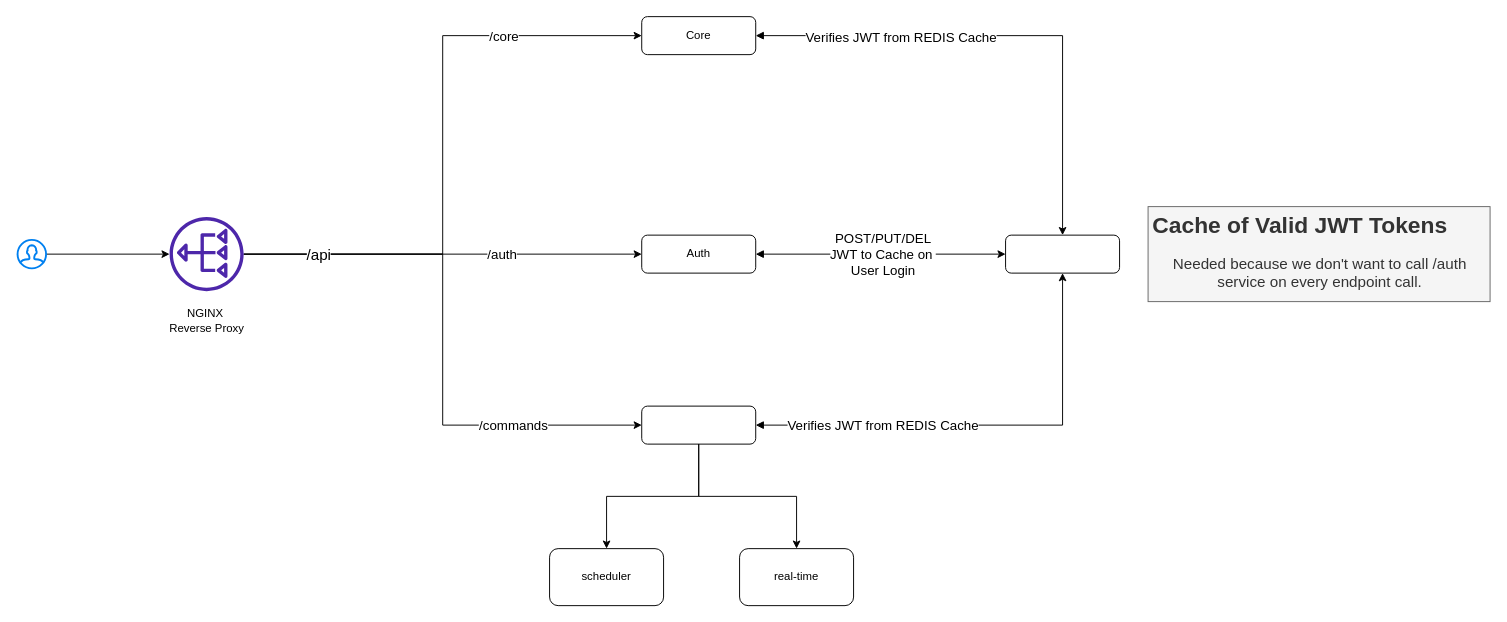
Image size: 1507x622. Some labels were removed from this diagram. Each missing label, with the centre of its shape:
"Commands" goes at point (698, 424).
"REDIS Cache" goes at point (1062, 253).
